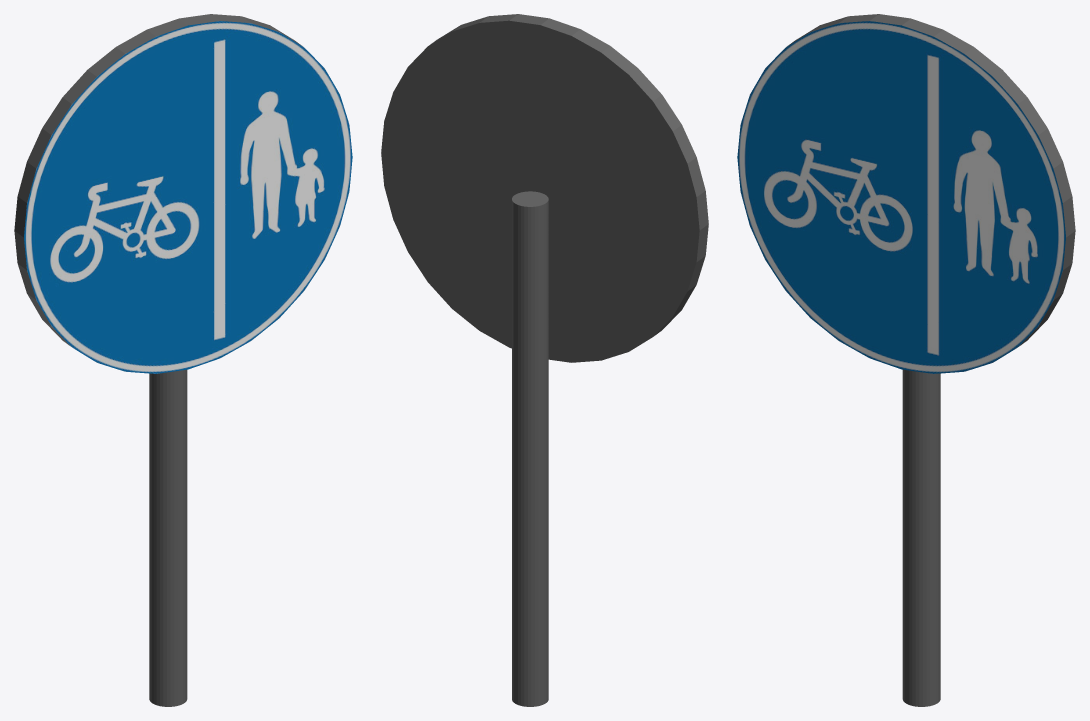
Rendered from SignGivingOrderSegregatedCyclePedestrianRoute.obj.
The picture shows the model from 3 angles, left to right: view 1: azimuth 30°, elevation 25°; view 2: azimuth 150°, elevation 25°; view 3: azimuth 330°, elevation 25°; orthographic projection. The views are drawn at different scales.
Visible parts, largest first — view 1: Cylinder, Cylinder.001; view 2: Cylinder, Cylinder.001; view 3: Cylinder, Cylinder.001.
Part boxes in pixels (x1=…): Cylinder: x1=14, y1=14, x2=352, y2=373; Cylinder.001: x1=149, y1=369, x2=187, y2=706; Cylinder: x1=381, y1=14, x2=708, y2=362; Cylinder.001: x1=512, y1=191, x2=548, y2=706; Cylinder: x1=737, y1=14, x2=1075, y2=373; Cylinder.001: x1=902, y1=369, x2=940, y2=706.
Size of the model in its own units: 1 by 2 by 0.155.
3 materials, 1 textured.
